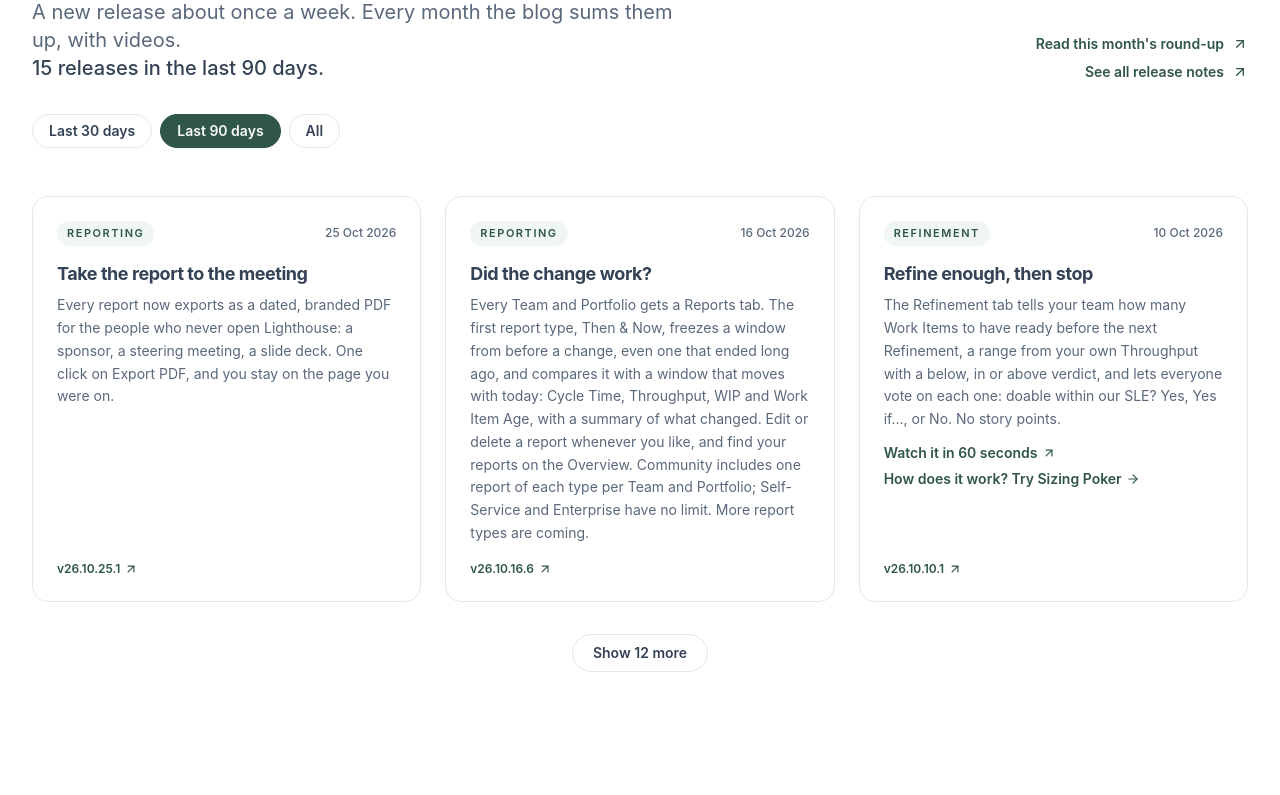
Test case: Lighthouse What's New › shows three cards first and the rest on request
(page scrolled)
Click the button "Show 12 more": [640, 652] box [572, 634, 708, 672]
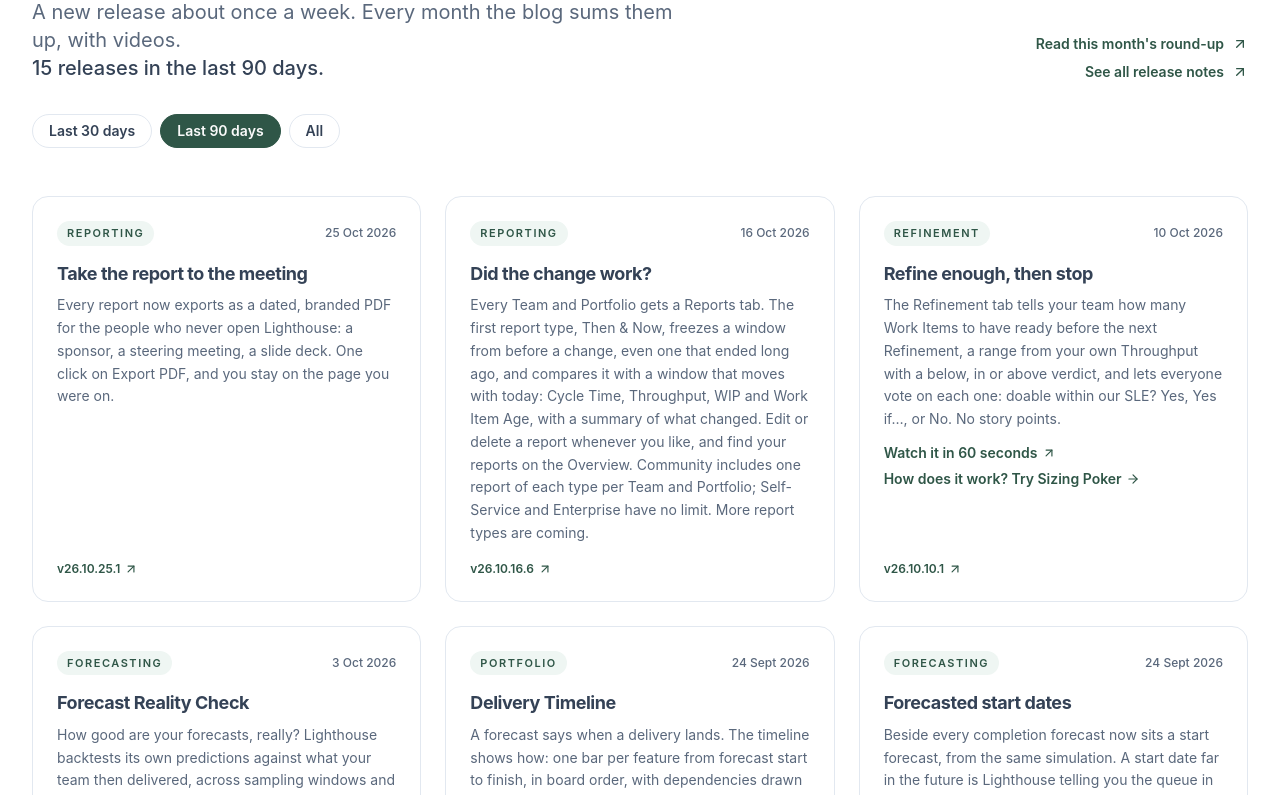
expect the button "Show 12 more" is gone: met
